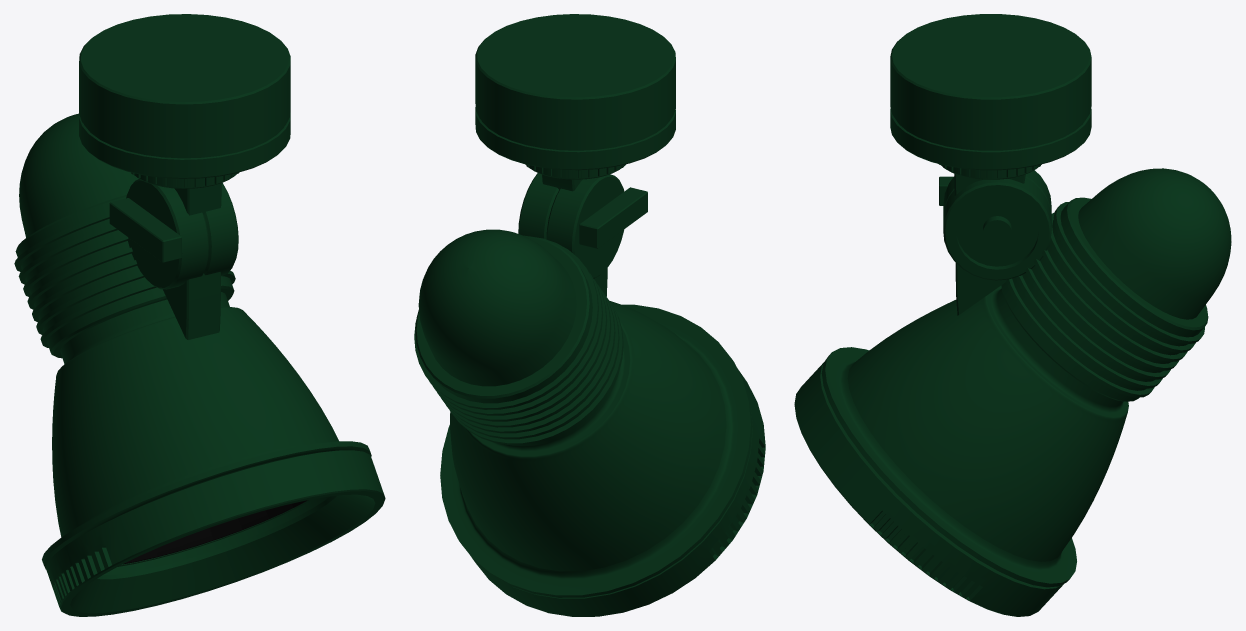
File: ShootLight.FBX
3 views of the same model, side by side, from view 1: azimuth 30°, elevation 25°; view 2: azimuth 150°, elevation 25°; view 3: azimuth 270°, elevation 25° (orthographic). The views are drawn at different scales.
Parts seen in each view (by area): view 1: obj_910, obj_907, obj_909, obj_848, obj_846, obj_849, obj_912; view 2: obj_910, obj_907, obj_909, obj_848, obj_849, obj_846; view 3: obj_910, obj_907, obj_909, obj_848, obj_846.
Boxes of the visible parts, x1,y1,x2,y2 form: obj_910: [14, 113, 371, 574]; obj_907: [79, 14, 290, 188]; obj_909: [46, 450, 385, 616]; obj_848: [126, 179, 238, 289]; obj_846: [163, 183, 221, 339]; obj_849: [109, 198, 181, 262]; obj_912: [123, 500, 307, 564]; obj_910: [414, 229, 752, 597]; obj_907: [475, 14, 675, 179]; obj_909: [471, 368, 765, 616]; obj_848: [518, 173, 624, 278]; obj_849: [579, 187, 647, 248]; obj_846: [542, 174, 607, 296]; obj_910: [821, 168, 1231, 587]; obj_907: [890, 14, 1091, 179]; obj_909: [794, 362, 1063, 616]; obj_848: [943, 170, 1051, 280]; obj_846: [954, 173, 1025, 315].
Bounding box in the file's own units: 5.95 × 10.79 × 7.93.
